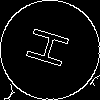H: (25, 25, 79, 73)
